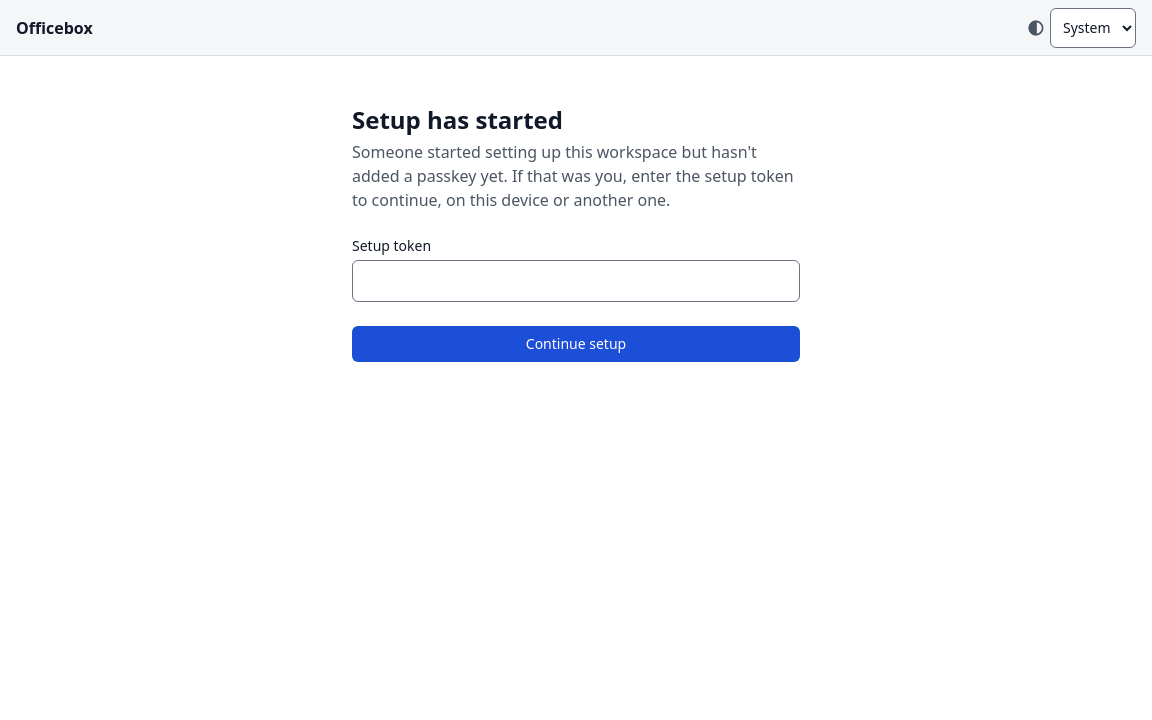
Test: setup (Identity §4.1) › a released claim sends resume back to the full setup form
Type "token-0123456789abcdefghijklmnopqrstuv" into the field labelled "Setup token" at (576, 281), box [352,260,800,302]
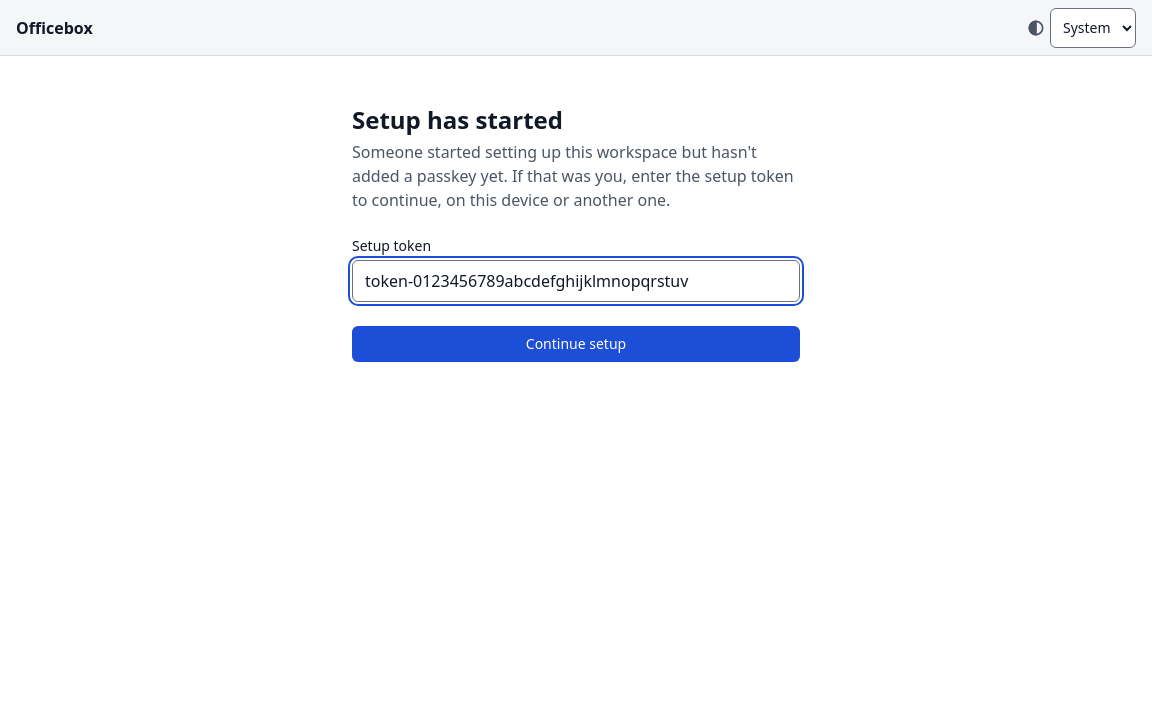
Click the button "Continue setup" at (576, 344), box [352,326,800,362]
(page scrolled)
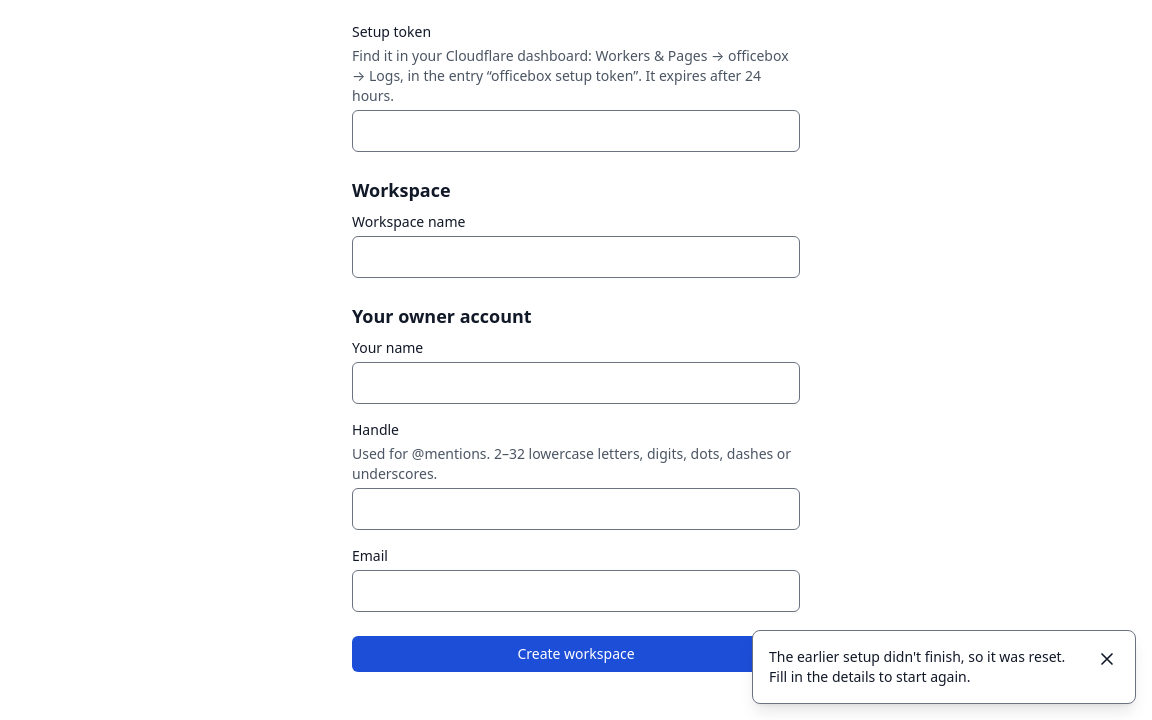
Expected: the button "Create workspace" is shown, [352,636,800,672]
